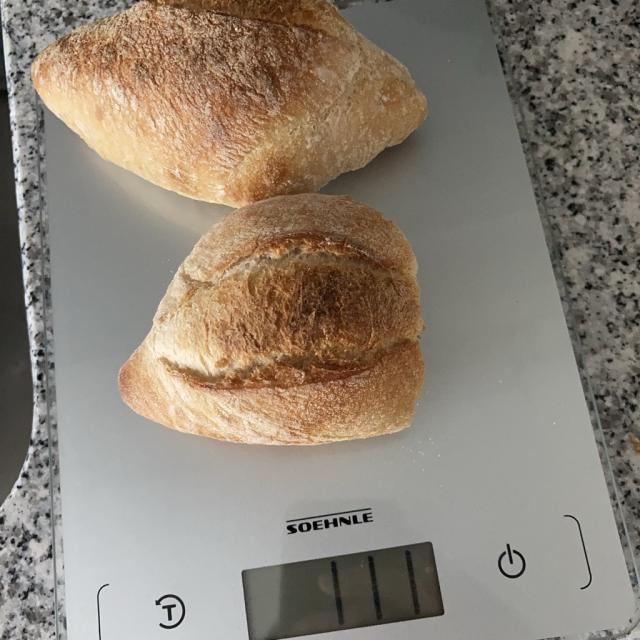bread: (37, 11, 421, 437)
